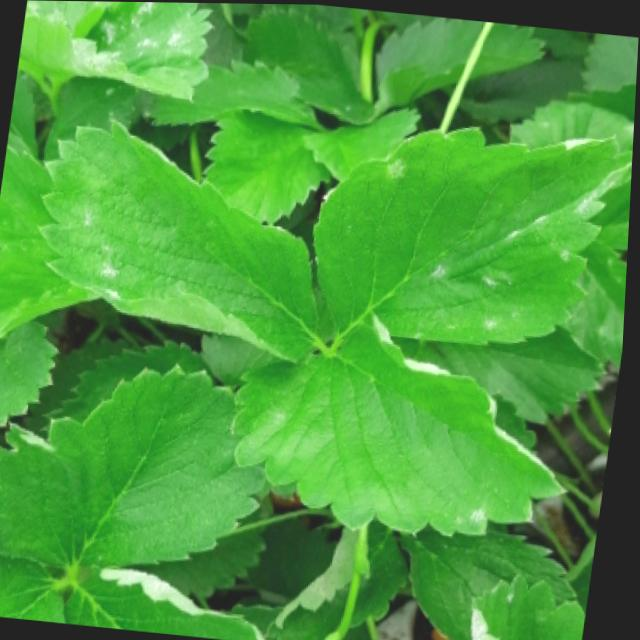Powdery Mildew Leaf: (232, 310, 574, 535), (314, 123, 634, 345), (38, 112, 322, 361), (18, 0, 216, 100), (70, 566, 277, 640), (478, 570, 592, 640), (592, 177, 633, 247)
